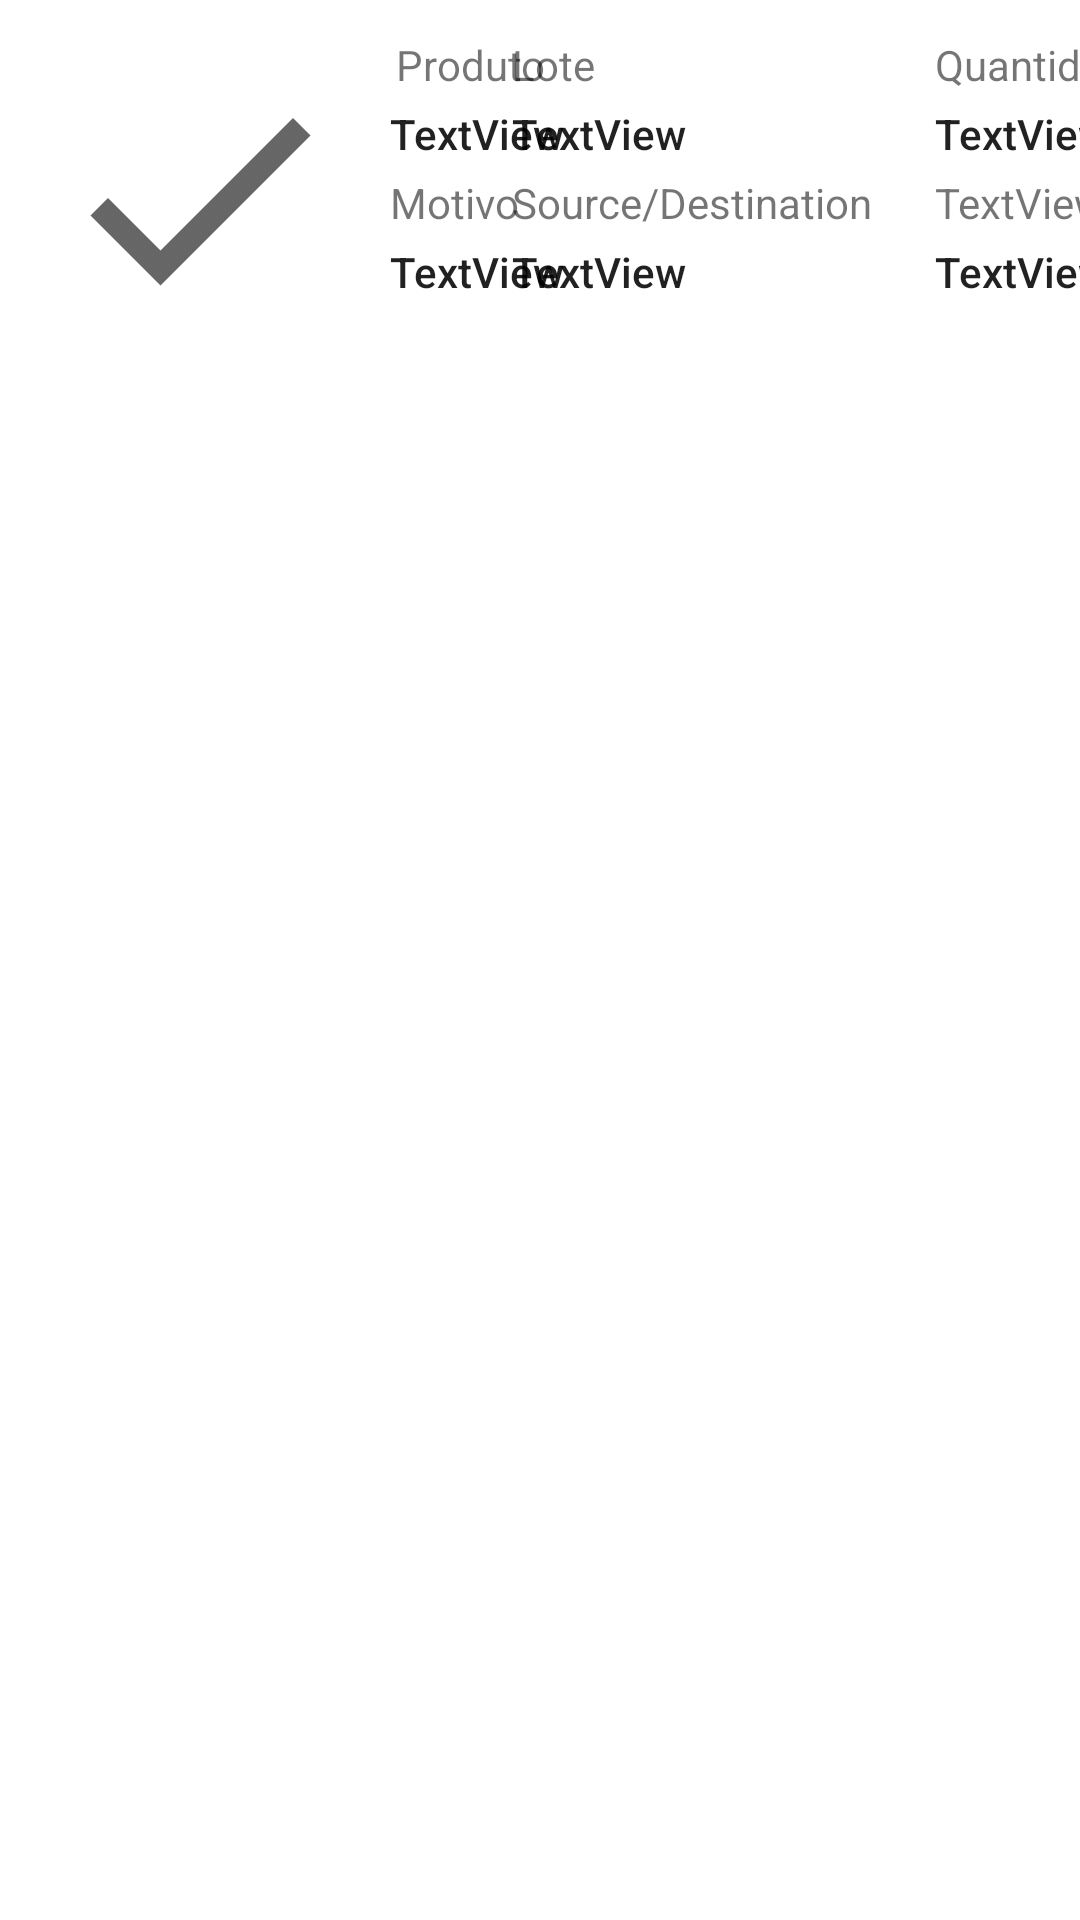

Screen size 1080px×1920px. Icon name, then its center in pixels as [x,y]:
done: [200,202]
